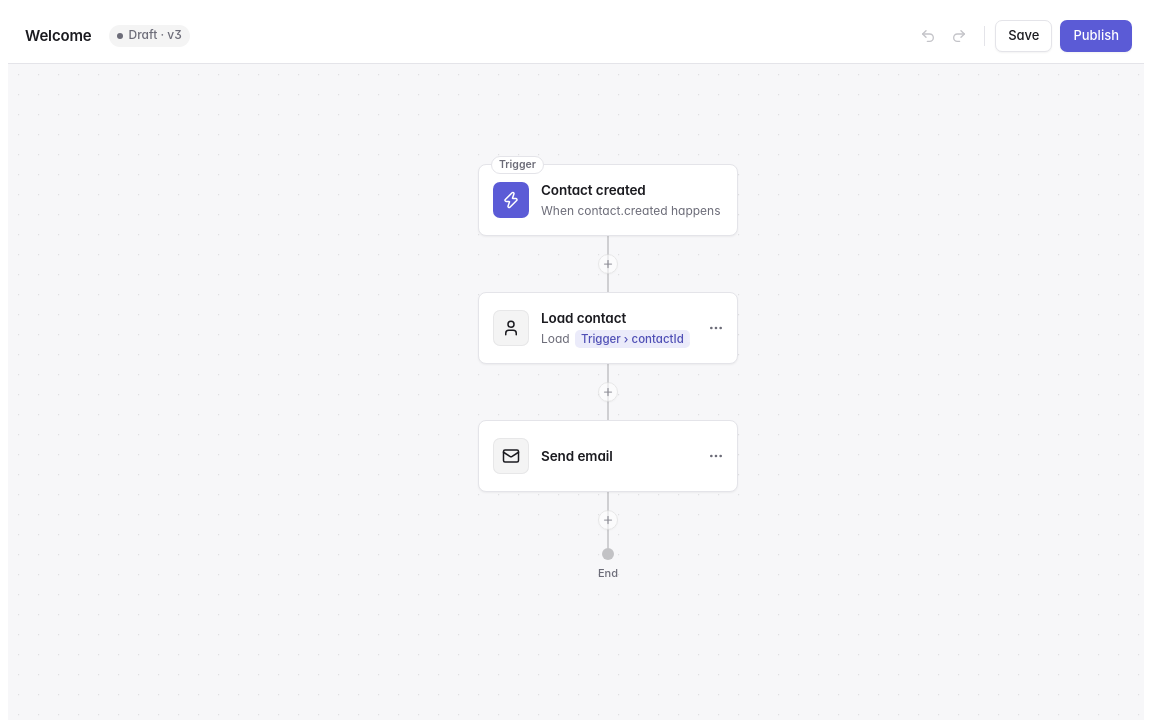
Test case: WorkflowEditor › Save sends the edited doc and records the new version
Replace the text in the field named "Workflow name" with "Onboarding" at (58,36), box x1=18 y1=20 x2=98 y2=52
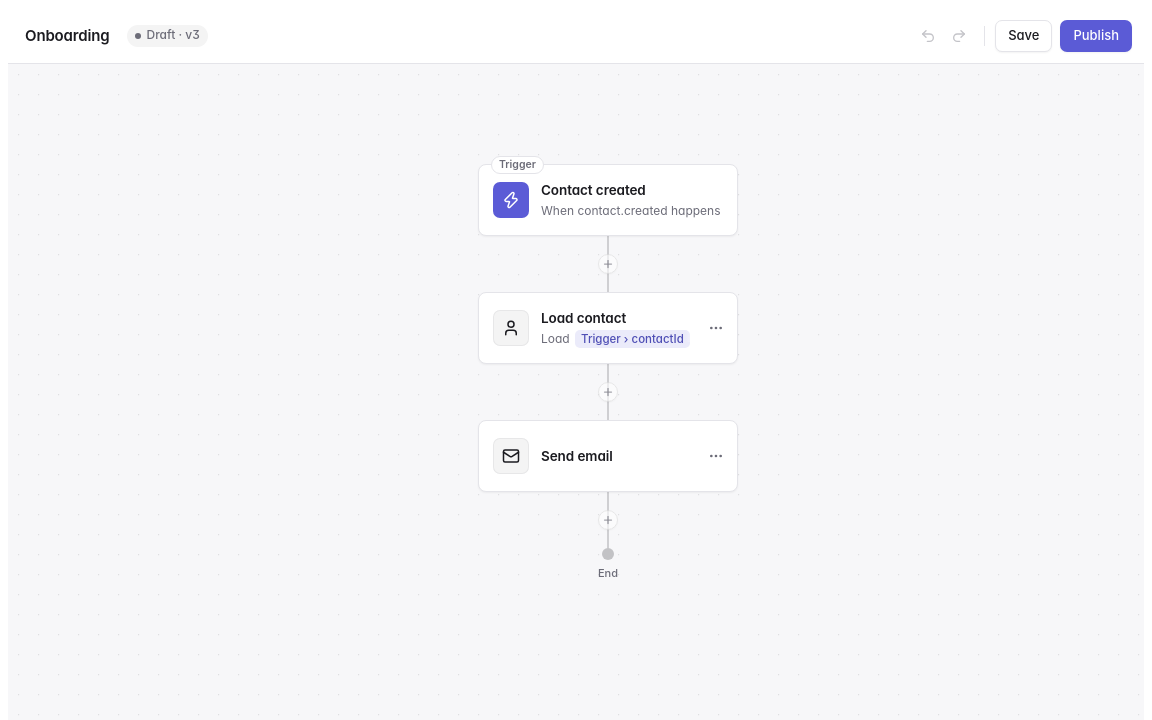
Leave the field named "Workflow name", box x1=18 y1=20 x2=116 y2=52
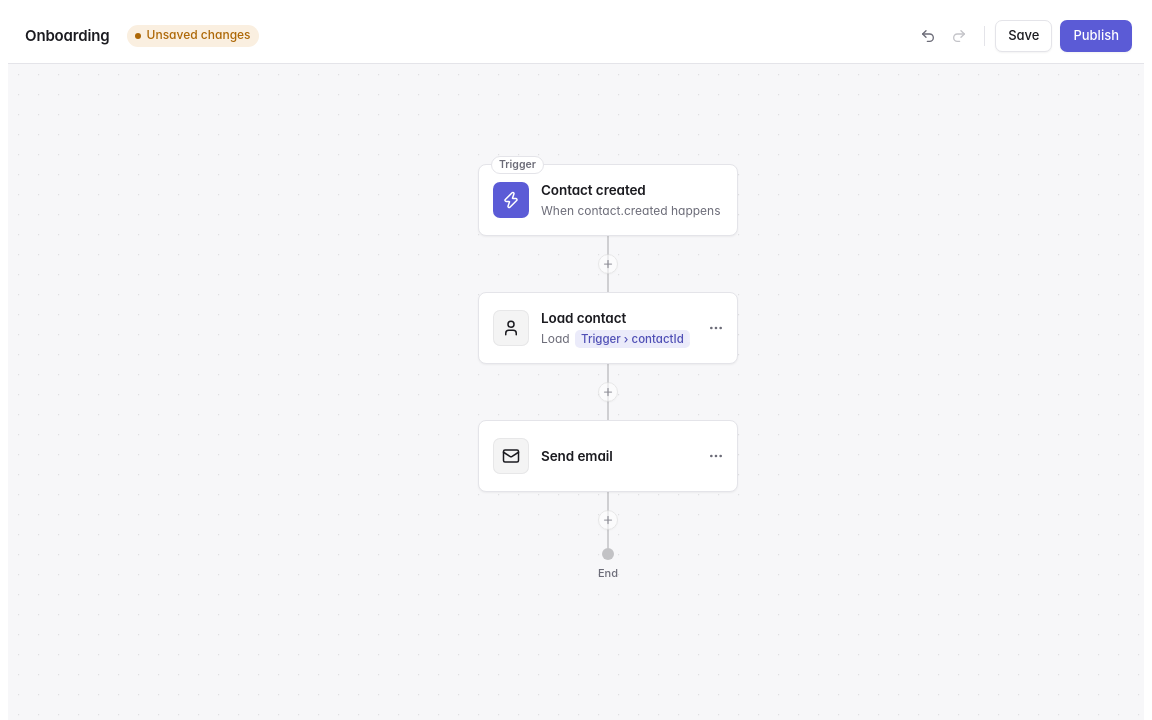
Now the text "Unsaved changes" is shown, box x1=126 y1=24 x2=258 y2=46
Click the button "Save" at (1024,36), box x1=995 y1=20 x2=1052 y2=52
(page scrolled)
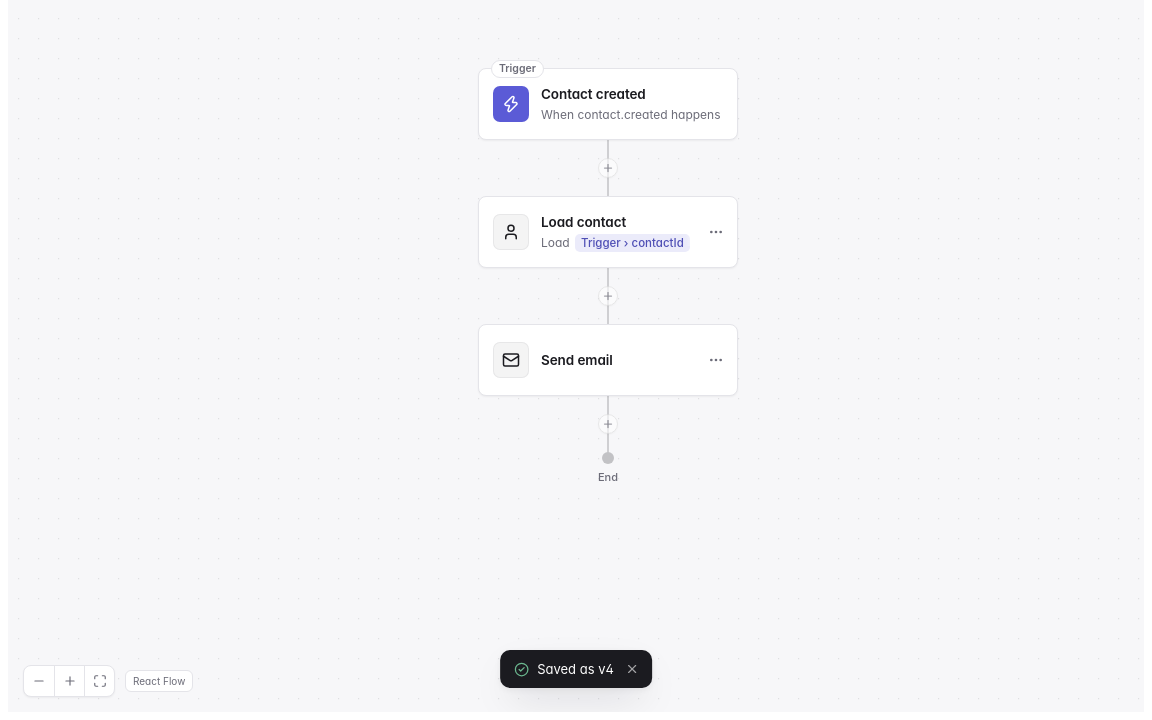
Now the text "Saved as v4" is shown, box x1=537 y1=660 x2=614 y2=678
